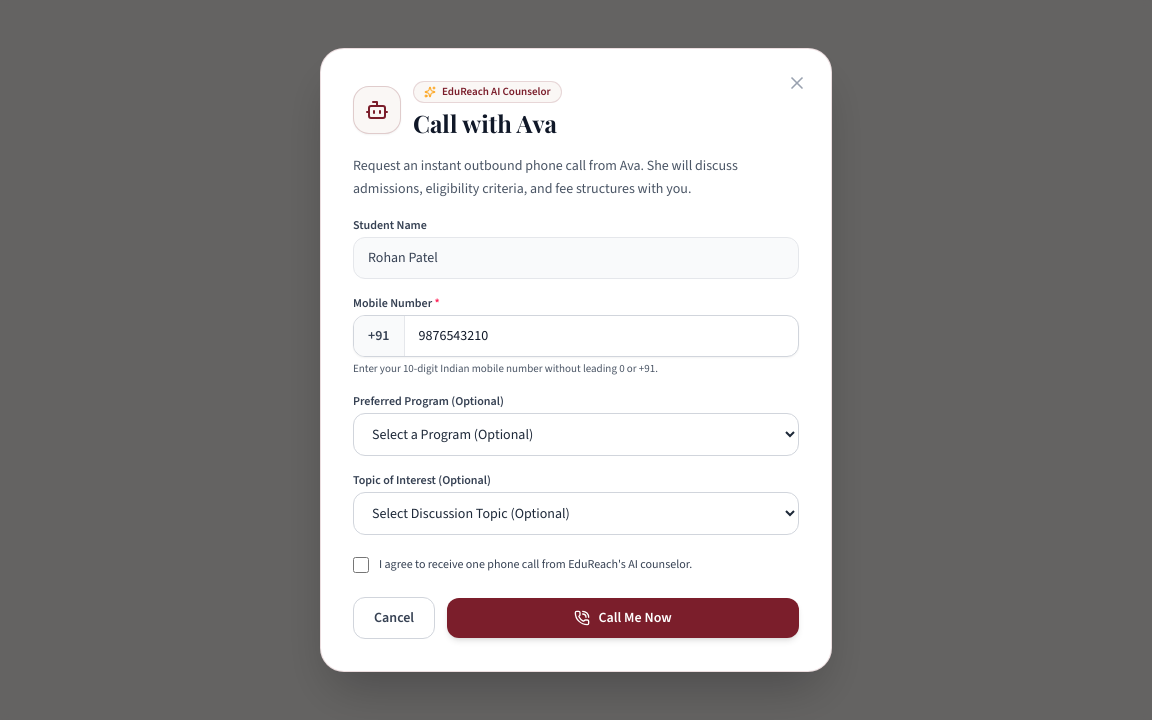
Scenario: CallPopup Component & 4-State Machine Tests › blocks submission and shows error message when phone number is invalid
In the field labelled "Mobile Number *": coordinates (601, 336) [404,316,798,356], type "5123456789"
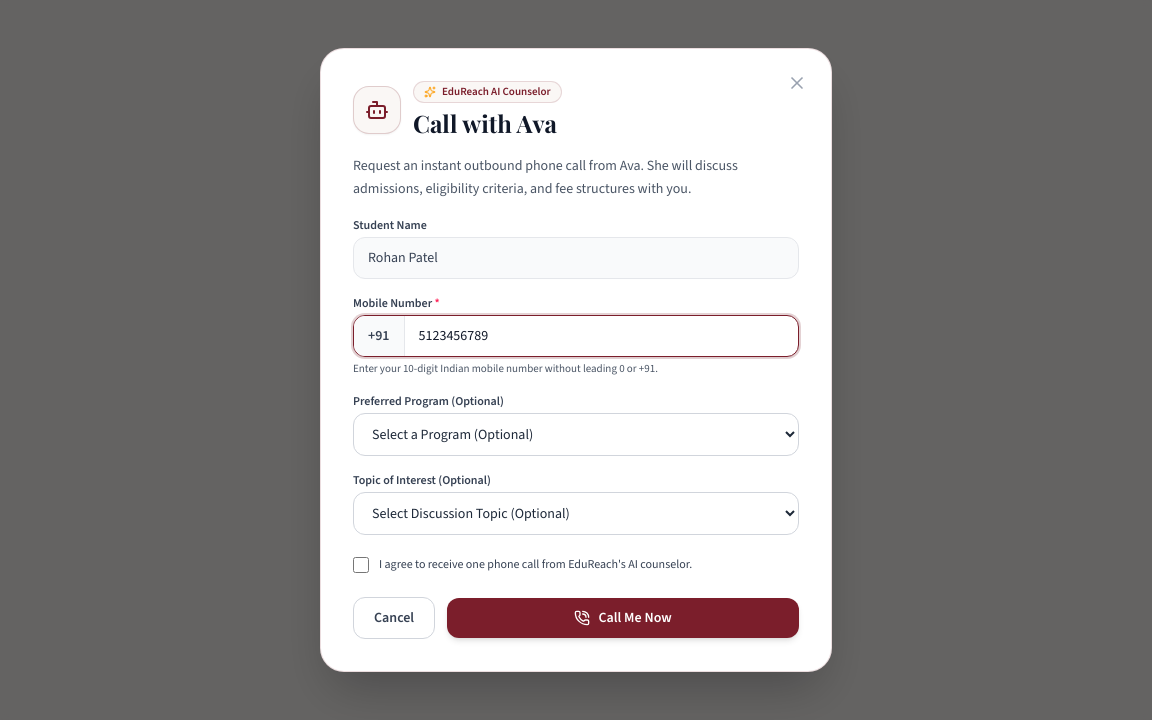
Click the checkbox labelled "I agree to receive one phone call": coordinates (361, 565) [353,557,369,573]
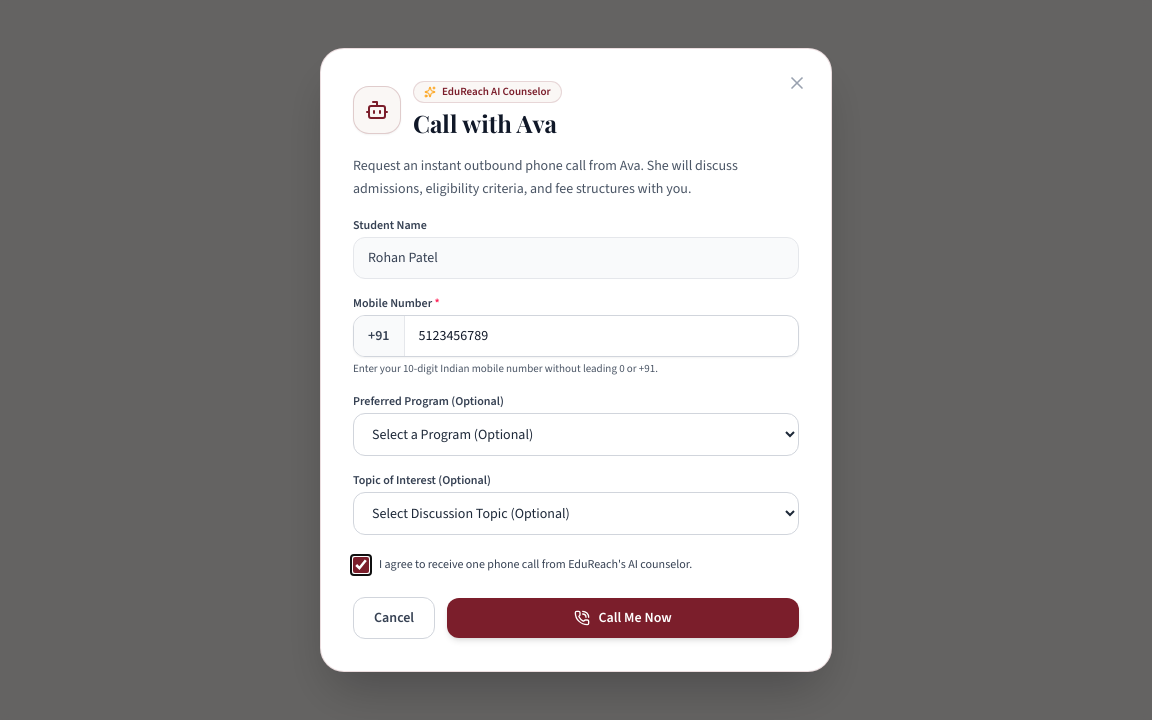
Click the button "Call Me Now": coordinates (623, 618) [447,598,799,638]
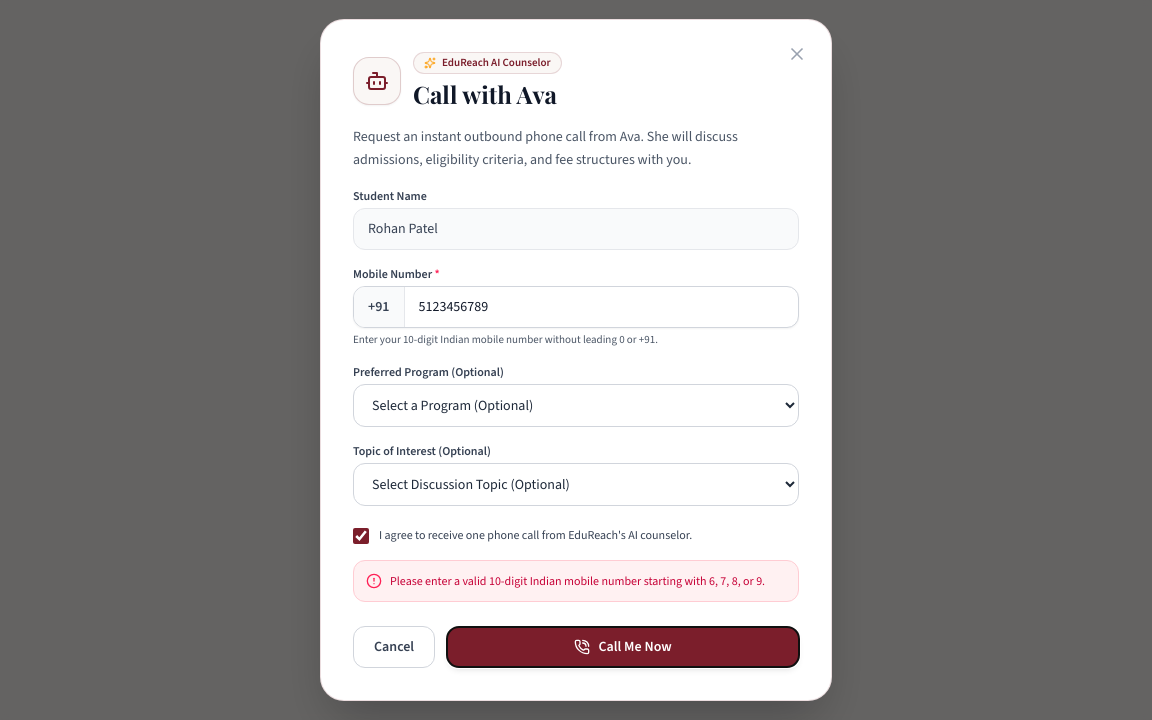
Check: the text "Please enter a valid 10-digit Indian mobile number starting with 6, 7, 8, or 9" is shown, box [390,573,765,589]
